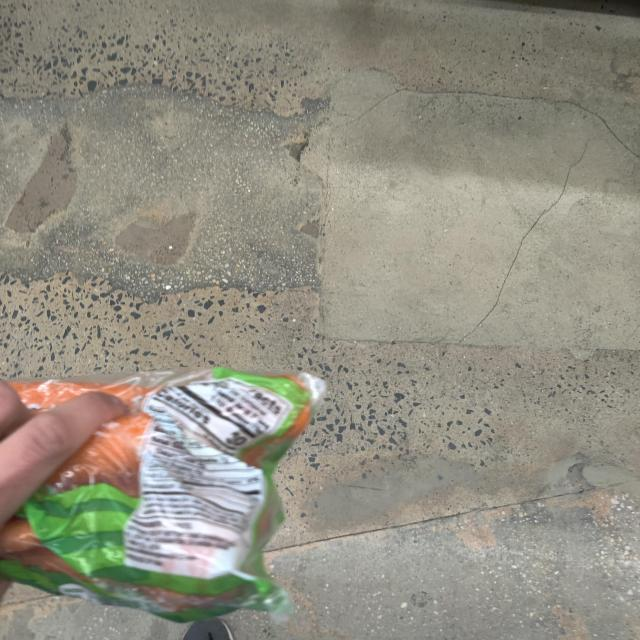Carrots: (0, 378, 332, 616)
